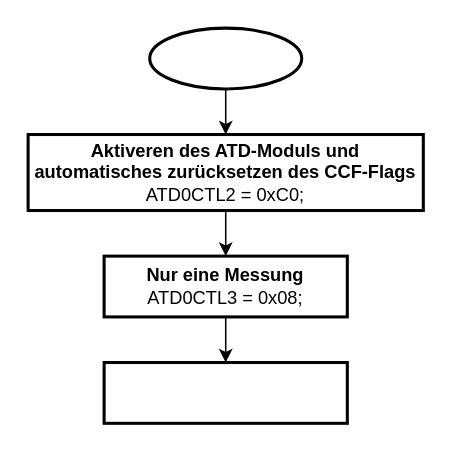
Image size: 450x450. Some labels were removed from this diagram. Each missing label, with the box of its shape:
10 bit, 2 MHz ATD0CTL4 = 0x05;: (102, 360, 348, 424)
initThermo(): (147, 26, 302, 90)
